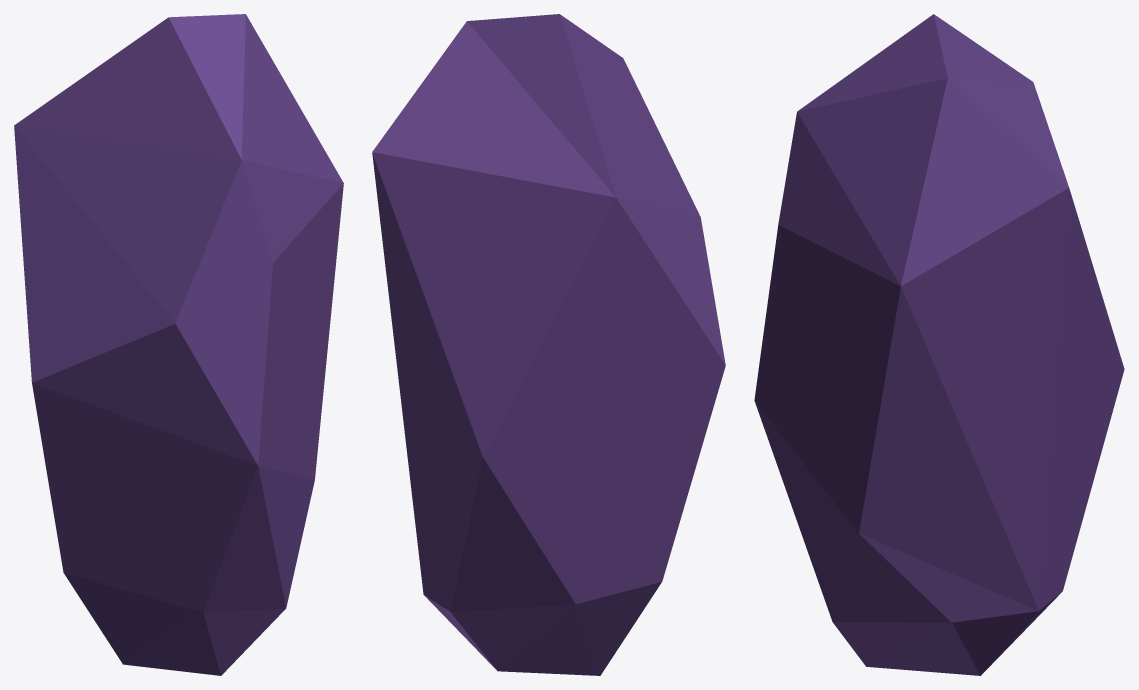
File: CrystalB.fbx
3 views of the same model, side by side, from view 1: azimuth 30°, elevation 25°; view 2: azimuth 150°, elevation 25°; view 3: azimuth 270°, elevation 25° (orthographic).
Parts seen in each view (by area): view 1: CrystalB; view 2: CrystalB; view 3: CrystalB.
Part boxes in pixels (<box>): CrystalB: <box>14,14,343,675</box>; CrystalB: <box>372,14,725,675</box>; CrystalB: <box>754,14,1124,675</box>.
Size of the model in its own units: 21.6 by 42.67 by 22.25.
